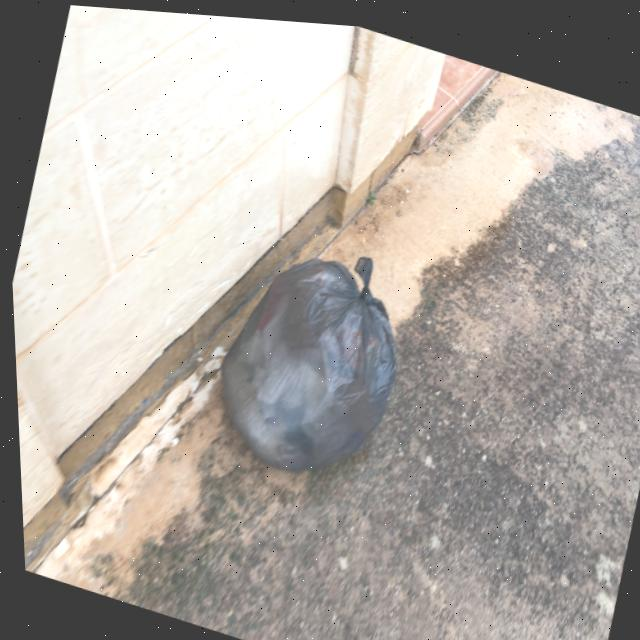Mixed Waste -Black Bag-: (198, 214, 425, 498)
